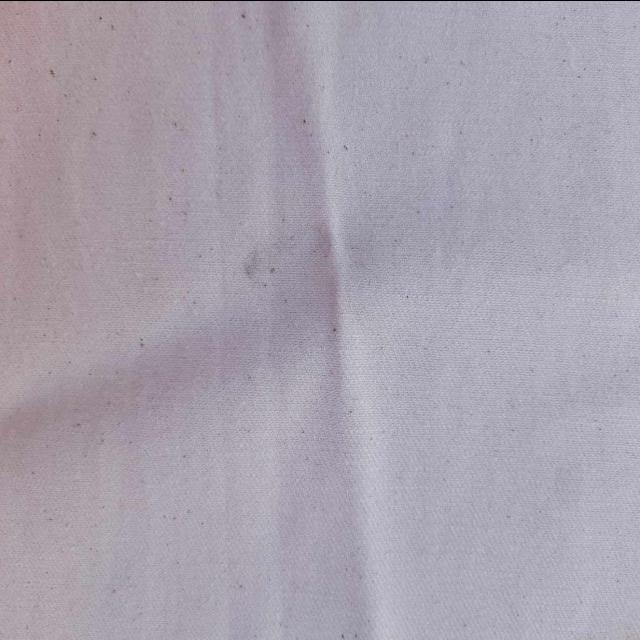taaaches: (218, 216, 296, 302)
